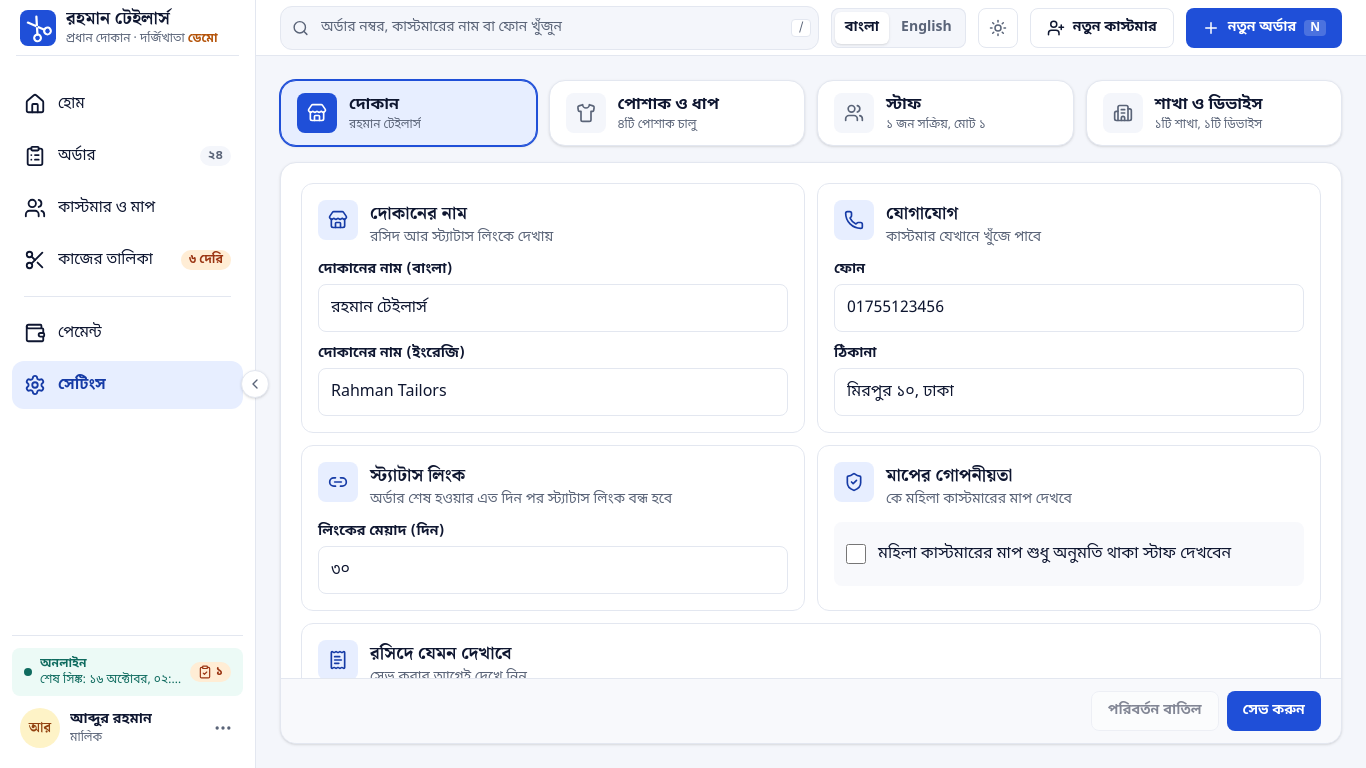
Test case: Shop settings › opens on the shop details and saves a change
Replace the text in the field labelled "ফোন" with "01700000000" at (1069, 308), box [835,288,1303,328]
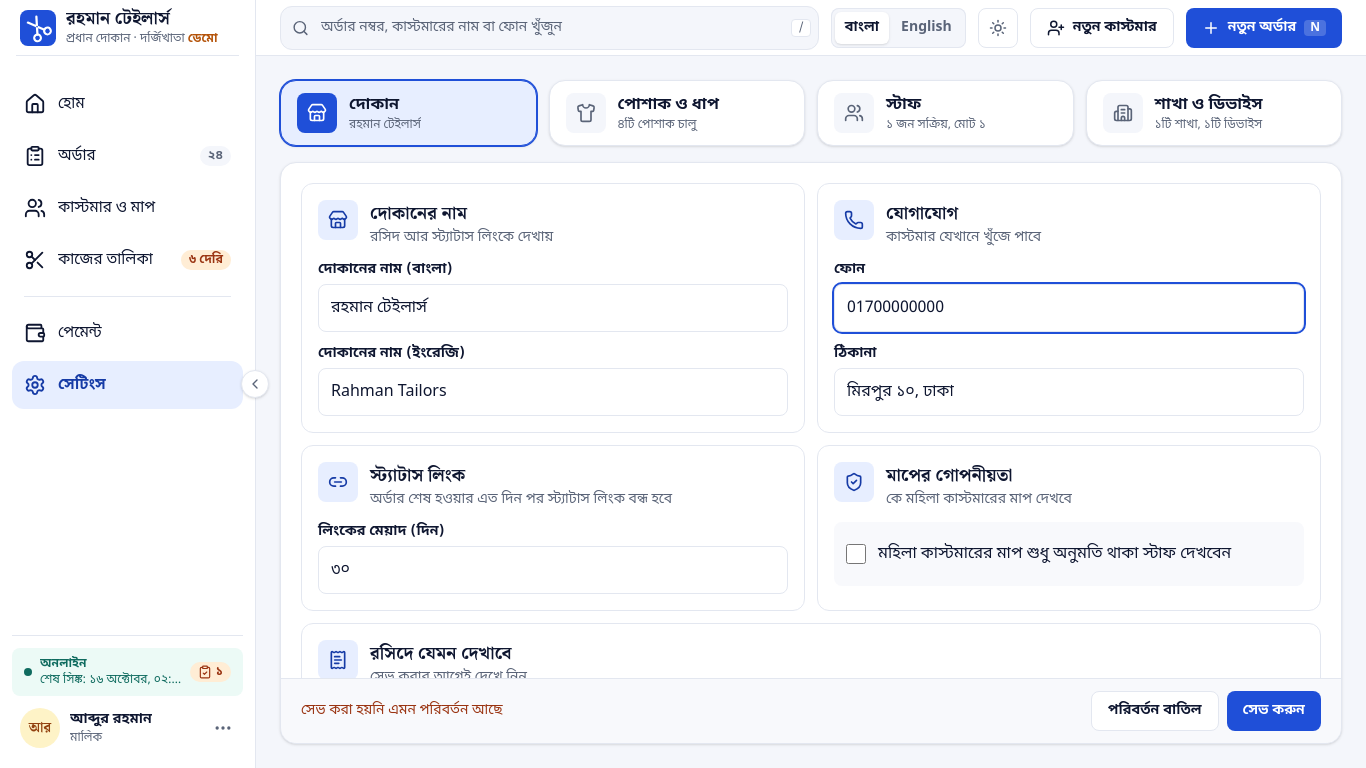
Replace the text in the field labelled "লিংকের মেয়াদ (দিন)" with "৭" at (553, 570), box [319,550,787,590]
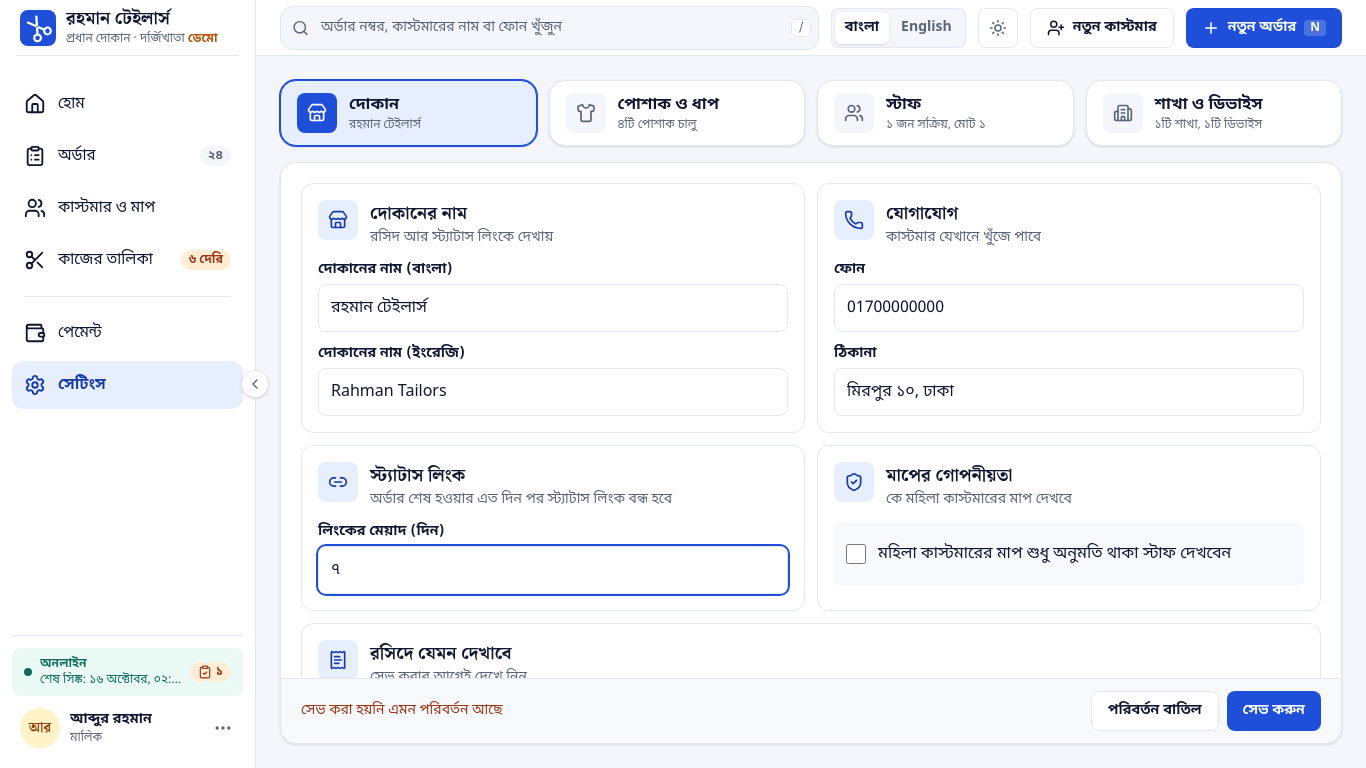
Click the button "সেভ করুন" at (1274, 711), box [1227,691,1321,731]
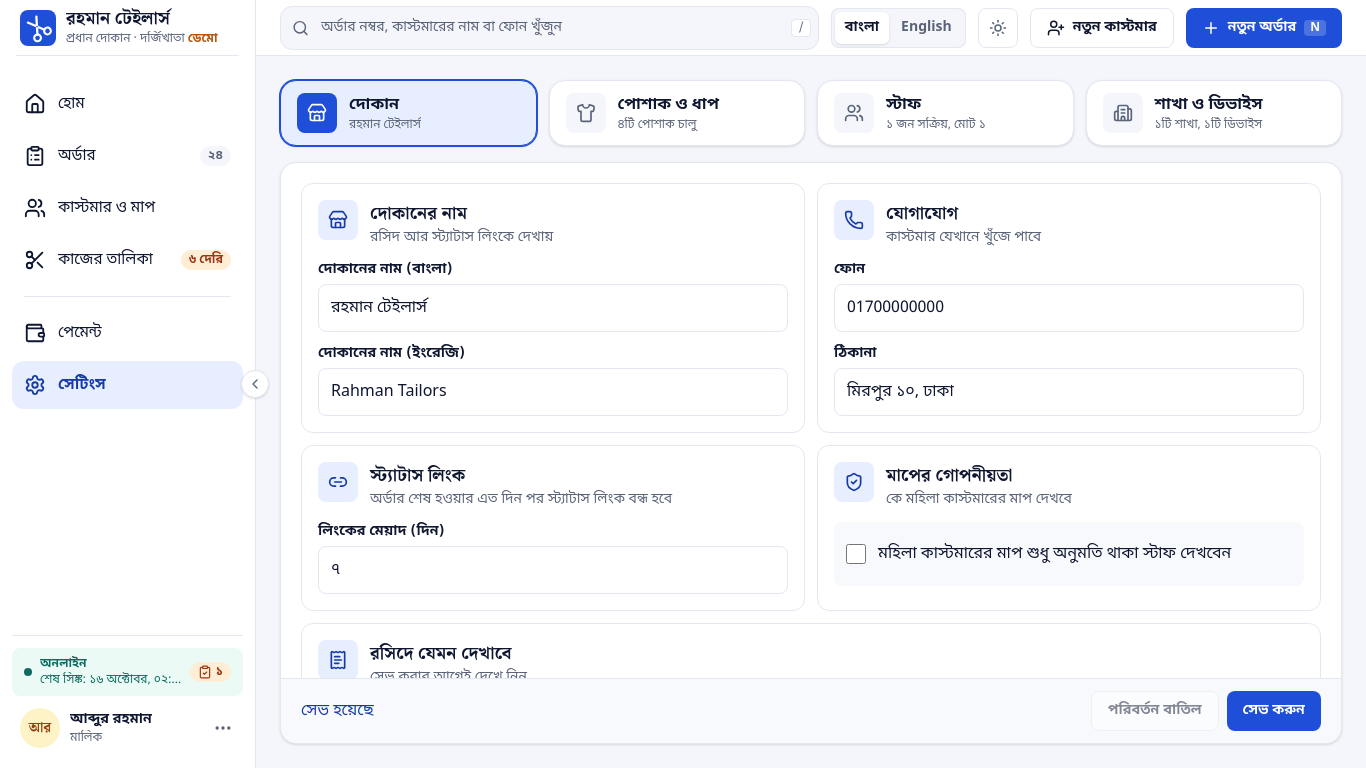
Expected: the text "সেভ হয়েছে" is shown, [301,699,374,723]
